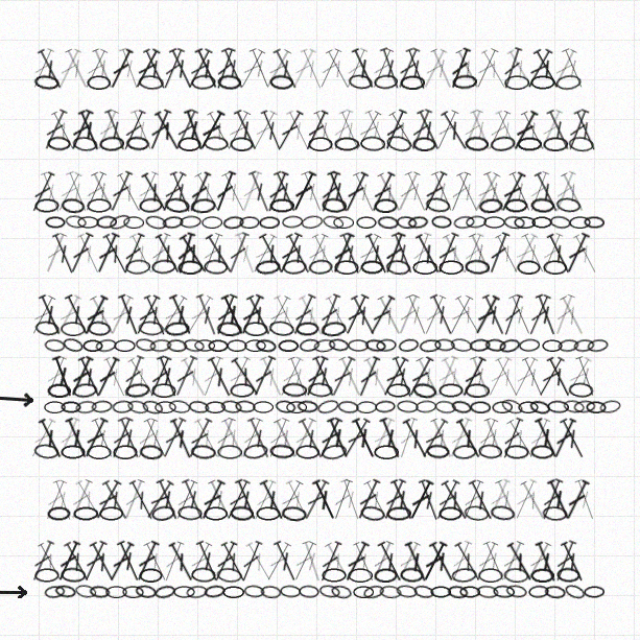chain: (370, 128, 396, 147), (308, 424, 334, 442), (345, 483, 371, 501), (104, 203, 128, 222), (395, 365, 420, 383), (233, 424, 259, 441), (480, 380, 503, 399), (470, 129, 495, 146), (158, 188, 183, 205), (408, 188, 433, 205), (533, 188, 558, 205), (258, 306, 283, 323), (33, 424, 58, 441), (145, 483, 170, 500), (445, 483, 470, 500), (470, 483, 495, 500), (540, 558, 563, 576), (334, 70, 358, 87), (34, 306, 58, 323), (33, 71, 58, 87), (133, 71, 158, 87), (533, 71, 558, 87), (70, 130, 95, 146), (545, 130, 570, 146), (183, 189, 208, 205), (245, 248, 270, 264), (370, 248, 395, 264), (158, 307, 183, 323), (208, 307, 233, 323), (308, 307, 333, 323), (70, 366, 95, 382), (120, 366, 145, 382), (183, 425, 208, 441), (270, 484, 295, 500), (520, 484, 545, 500), (208, 543, 233, 559), (433, 543, 458, 559), (483, 543, 508, 559), (304, 381, 327, 398), (59, 189, 83, 205), (459, 189, 483, 205), (134, 425, 158, 441), (434, 425, 458, 441), (133, 307, 158, 322), (295, 366, 320, 381), (545, 366, 570, 381), (60, 322, 82, 339), (139, 205, 162, 221), (184, 71, 208, 86), (434, 71, 458, 86), (96, 130, 120, 145), (121, 130, 145, 145), (196, 130, 220, 145), (346, 130, 370, 145), (309, 189, 333, 204), (121, 248, 145, 263), (146, 248, 170, 263), (271, 248, 295, 263), (296, 248, 320, 263), (446, 248, 470, 263), (84, 307, 108, 322), (271, 366, 295, 381), (259, 425, 283, 440), (171, 484, 195, 499), (59, 543, 83, 558), (184, 543, 208, 558), (309, 205, 331, 221), (478, 323, 500, 339), (122, 382, 144, 398), (136, 382, 158, 398), (432, 382, 454, 398), (507, 382, 529, 398), (148, 559, 170, 575), (317, 559, 339, 575), (348, 559, 370, 575), (396, 559, 418, 575), (209, 71, 232, 86), (259, 71, 282, 86), (359, 71, 382, 86), (46, 130, 69, 145), (446, 130, 469, 145), (134, 189, 157, 204), (509, 189, 532, 204), (196, 248, 219, 263), (409, 425, 432, 440), (459, 425, 482, 440), (221, 484, 244, 499), (384, 543, 407, 558), (534, 543, 557, 558), (384, 72, 408, 86), (484, 72, 508, 86), (509, 72, 533, 86), (296, 131, 320, 145), (321, 131, 345, 145), (496, 131, 520, 145), (521, 131, 545, 145), (34, 190, 58, 204), (84, 190, 108, 204), (259, 190, 283, 204), (171, 249, 195, 263), (321, 249, 345, 263), (396, 249, 420, 263), (421, 249, 445, 263), (59, 308, 83, 322), (234, 308, 258, 322), (146, 367, 170, 381), (221, 367, 245, 381), (421, 367, 445, 381), (446, 367, 470, 381), (59, 426, 83, 440), (84, 426, 108, 440), (109, 426, 133, 440), (209, 426, 233, 440), (359, 426, 383, 440), (484, 426, 508, 440), (71, 485, 95, 499), (246, 485, 270, 499), (371, 485, 395, 499), (34, 544, 58, 558), (309, 544, 333, 558), (334, 544, 358, 558), (459, 544, 483, 558), (289, 205, 311, 220), (432, 323, 454, 338), (162, 382, 184, 397), (72, 559, 94, 574), (84, 72, 107, 86), (171, 131, 194, 145), (221, 131, 244, 145), (396, 131, 419, 145), (359, 190, 382, 204), (484, 190, 507, 204), (346, 249, 369, 263), (496, 249, 519, 263), (521, 249, 544, 263), (284, 308, 307, 322), (46, 367, 69, 381), (371, 367, 394, 381), (284, 426, 307, 440), (509, 426, 532, 440), (46, 485, 69, 499), (96, 485, 119, 499), (196, 485, 219, 499), (421, 485, 444, 499), (134, 544, 157, 558), (359, 544, 382, 558), (509, 544, 532, 558), (63, 205, 84, 220), (130, 323, 151, 338), (287, 323, 308, 338), (315, 323, 336, 338), (382, 323, 403, 338), (212, 382, 233, 397), (264, 382, 285, 397), (540, 382, 561, 397), (575, 382, 596, 397), (53, 559, 74, 574), (130, 559, 151, 574), (196, 559, 217, 574), (306, 559, 327, 574), (380, 559, 401, 574), (485, 559, 506, 574), (144, 324, 166, 338), (301, 324, 323, 338), (402, 324, 424, 338), (364, 560, 386, 574), (457, 560, 479, 574), (156, 206, 177, 220), (214, 206, 235, 220), (362, 206, 383, 220), (380, 206, 401, 220), (391, 206, 412, 220), (435, 206, 456, 220), (483, 206, 504, 220), (527, 206, 548, 220), (43, 324, 64, 338), (92, 324, 113, 338), (160, 324, 181, 338), (176, 324, 197, 338), (245, 324, 266, 338), (350, 324, 371, 338), (535, 324, 556, 338), (550, 324, 571, 338), (563, 324, 584, 338), (73, 383, 94, 397), (181, 383, 202, 397), (324, 383, 345, 397), (417, 383, 438, 397), (43, 560, 64, 574), (86, 560, 107, 574), (179, 560, 200, 574), (250, 560, 271, 574), (429, 560, 450, 574), (522, 560, 543, 574), (550, 383, 572, 396), (173, 206, 194, 219), (450, 324, 471, 337), (465, 324, 486, 337), (88, 383, 109, 396), (108, 383, 129, 396), (285, 383, 306, 396), (381, 383, 402, 396), (525, 383, 546, 396), (234, 560, 255, 573), (473, 560, 494, 573), (93, 206, 113, 219), (271, 206, 291, 219), (414, 206, 434, 219), (447, 206, 467, 219), (361, 324, 381, 337), (417, 324, 437, 337), (498, 324, 518, 337), (226, 383, 246, 396), (360, 383, 380, 396), (399, 383, 419, 396), (269, 560, 289, 573), (287, 560, 307, 573), (507, 560, 527, 573), (75, 207, 96, 219), (464, 207, 485, 219), (493, 207, 514, 219), (546, 207, 567, 219), (110, 325, 131, 337), (235, 325, 256, 337), (43, 384, 64, 396), (149, 384, 170, 396), (102, 561, 123, 573), (118, 561, 139, 573), (167, 561, 188, 573), (214, 561, 235, 573), (44, 207, 64, 219), (119, 207, 139, 219), (194, 207, 214, 219), (230, 207, 250, 219), (249, 207, 269, 219), (320, 207, 340, 219), (342, 207, 362, 219), (510, 207, 530, 219), (560, 207, 580, 219), (80, 325, 100, 337), (187, 325, 207, 337), (200, 325, 220, 337), (218, 325, 238, 337), (267, 325, 287, 337), (334, 325, 354, 337), (520, 325, 540, 337), (59, 384, 79, 396), (197, 384, 217, 396), (243, 384, 263, 396), (275, 384, 295, 396), (342, 384, 362, 396), (451, 384, 471, 396), (472, 384, 492, 396), (497, 384, 517, 396), (562, 384, 582, 396), (339, 561, 359, 573), (413, 561, 433, 573), (441, 561, 461, 573), (560, 561, 580, 573)
double: (370, 104, 403, 146), (420, 104, 453, 146), (170, 222, 203, 264), (195, 222, 228, 264), (120, 340, 153, 382), (400, 399, 433, 441), (483, 399, 516, 441), (137, 458, 170, 500), (220, 340, 253, 381), (226, 45, 258, 87), (251, 45, 283, 87), (484, 45, 516, 87), (501, 45, 533, 87), (509, 45, 541, 87), (184, 163, 216, 205), (451, 163, 483, 205), (171, 340, 203, 382), (346, 340, 378, 382), (363, 340, 395, 382), (538, 340, 570, 382), (88, 458, 120, 500), (96, 458, 128, 500), (421, 458, 453, 500), (496, 458, 528, 500), (59, 517, 91, 559), (251, 517, 283, 559), (309, 517, 341, 559), (151, 281, 183, 322), (176, 281, 208, 322), (326, 399, 358, 440), (34, 45, 65, 87), (126, 45, 157, 87), (176, 45, 207, 87), (276, 45, 307, 87), (434, 45, 465, 87), (459, 45, 490, 87), (526, 45, 557, 87), (146, 104, 177, 146), (188, 104, 219, 146), (196, 104, 227, 146), (213, 104, 244, 146), (238, 104, 269, 146), (263, 104, 294, 146), (338, 104, 369, 146), (488, 104, 519, 146), (51, 163, 82, 205), (134, 163, 165, 205), (359, 163, 390, 205), (476, 163, 507, 205), (238, 222, 269, 264), (246, 222, 277, 264), (338, 222, 369, 264), (396, 222, 427, 264), (488, 222, 519, 264), (26, 281, 57, 323), (51, 281, 82, 323), (84, 281, 115, 323), (234, 281, 265, 323), (284, 281, 315, 323), (334, 281, 365, 323), (351, 281, 382, 323), (359, 281, 390, 323), (426, 281, 457, 323), (534, 281, 565, 323), (388, 340, 419, 382), (396, 340, 427, 382), (421, 340, 452, 382), (513, 340, 544, 382), (26, 399, 57, 441), (184, 399, 215, 441), (284, 399, 315, 441), (384, 399, 415, 441), (534, 399, 565, 441), (263, 458, 294, 500), (288, 458, 319, 500), (346, 458, 377, 500), (34, 517, 65, 559), (84, 517, 115, 559), (176, 517, 207, 559), (234, 517, 265, 559), (409, 517, 440, 559), (434, 517, 465, 559), (484, 517, 515, 559), (501, 517, 532, 559), (60, 44, 90, 87), (160, 44, 190, 87), (164, 103, 194, 146), (222, 103, 252, 146), (397, 103, 427, 146), (85, 162, 115, 205), (277, 162, 307, 205), (377, 162, 407, 205), (402, 162, 432, 205), (497, 221, 527, 264), (60, 280, 90, 323), (327, 280, 357, 323), (214, 339, 244, 382), (322, 339, 352, 382), (77, 398, 107, 441), (135, 398, 165, 441), (152, 398, 182, 441), (210, 398, 240, 441), (277, 398, 307, 441), (302, 398, 332, 441), (335, 398, 365, 441), (352, 398, 382, 441), (197, 457, 227, 500), (297, 457, 327, 500), (277, 516, 307, 559), (434, 281, 465, 322), (71, 458, 102, 499), (52, 45, 82, 87), (77, 45, 107, 87), (260, 45, 290, 87), (310, 45, 340, 87), (402, 45, 432, 87), (47, 104, 77, 146), (272, 104, 302, 146), (497, 104, 527, 146), (110, 163, 140, 205), (152, 163, 182, 205), (210, 163, 240, 205), (352, 163, 382, 205), (510, 163, 540, 205), (535, 163, 565, 205), (97, 222, 127, 264), (122, 222, 152, 264), (147, 222, 177, 264), (272, 222, 302, 264), (422, 222, 452, 264), (472, 222, 502, 264), (547, 222, 577, 264), (77, 281, 107, 323), (102, 281, 132, 323), (127, 281, 157, 323), (252, 281, 282, 323), (260, 281, 290, 323), (310, 281, 340, 323), (452, 281, 482, 323), (197, 340, 227, 382), (264, 340, 294, 382), (314, 340, 344, 382), (439, 340, 469, 382), (464, 340, 494, 382), (472, 340, 502, 382), (489, 340, 519, 382), (177, 399, 207, 441), (260, 399, 290, 441), (435, 399, 465, 441), (122, 458, 152, 500), (189, 458, 219, 500), (247, 458, 277, 500), (389, 458, 419, 500), (414, 458, 444, 500), (447, 458, 477, 500), (102, 517, 132, 559), (135, 517, 165, 559), (160, 517, 190, 559), (210, 517, 240, 559), (327, 517, 357, 559), (360, 517, 390, 559), (377, 517, 407, 559), (402, 517, 432, 559), (27, 44, 56, 87), (185, 44, 214, 87), (210, 44, 239, 87), (302, 44, 331, 87), (327, 44, 356, 87), (335, 44, 364, 87), (352, 44, 381, 87), (377, 44, 406, 87), (410, 44, 439, 87), (452, 44, 481, 87), (39, 103, 68, 146), (64, 103, 93, 146), (89, 103, 118, 146), (347, 103, 376, 146), (414, 103, 443, 146), (514, 103, 543, 146), (522, 103, 551, 146), (77, 162, 106, 205), (102, 162, 131, 205), (127, 162, 156, 205), (260, 162, 289, 205), (385, 162, 414, 205), (485, 162, 514, 205), (64, 221, 93, 264), (89, 221, 118, 264), (264, 221, 293, 264), (447, 221, 476, 264), (539, 221, 568, 264), (35, 280, 64, 323), (160, 280, 189, 323), (210, 280, 239, 323), (227, 280, 256, 323), (277, 280, 306, 323), (410, 280, 439, 323), (460, 280, 489, 323), (485, 280, 514, 323), (64, 339, 93, 382), (164, 339, 193, 382), (239, 339, 268, 382), (247, 339, 276, 382), (289, 339, 318, 382), (297, 339, 326, 382), (52, 398, 81, 441), (60, 398, 89, 441), (85, 398, 114, 441), (227, 398, 256, 441), (235, 398, 264, 441), (410, 398, 439, 441), (427, 398, 456, 441), (510, 398, 539, 441), (64, 457, 93, 500), (172, 457, 201, 500), (339, 457, 368, 500), (364, 457, 393, 500), (372, 457, 401, 500), (464, 457, 493, 500), (472, 457, 501, 500), (489, 457, 518, 500), (522, 457, 551, 500), (27, 516, 56, 559), (52, 516, 81, 559), (77, 516, 106, 559), (110, 516, 139, 559), (127, 516, 156, 559), (260, 516, 289, 559), (460, 516, 489, 559), (477, 516, 506, 559), (102, 45, 131, 87), (135, 45, 164, 87), (289, 104, 318, 146), (464, 104, 493, 146), (27, 163, 56, 205), (327, 163, 356, 205), (435, 163, 464, 205), (72, 222, 101, 264), (297, 222, 326, 264), (522, 222, 551, 264), (89, 340, 118, 382), (97, 340, 126, 382), (522, 340, 551, 382), (35, 399, 64, 441), (527, 399, 556, 441), (214, 458, 243, 500), (272, 458, 301, 500), (539, 458, 568, 500), (202, 517, 231, 559), (452, 517, 481, 559), (535, 517, 564, 559), (86, 44, 114, 87), (236, 44, 264, 87), (536, 44, 564, 87), (98, 103, 126, 146), (123, 103, 151, 146), (140, 103, 168, 146), (365, 103, 393, 146), (390, 103, 418, 146), (448, 103, 476, 146), (540, 103, 568, 146), (61, 162, 89, 205), (236, 162, 264, 205), (286, 162, 314, 205), (311, 162, 339, 205), (411, 162, 439, 205), (461, 162, 489, 205), (528, 162, 556, 205), (40, 221, 68, 264), (140, 221, 168, 264), (215, 221, 243, 264), (315, 221, 343, 264), (373, 221, 401, 264), (415, 221, 443, 264), (515, 221, 543, 264), (203, 280, 231, 323), (378, 280, 406, 323), (386, 280, 414, 323), (40, 339, 68, 382), (190, 339, 218, 382), (415, 339, 443, 382), (103, 398, 131, 441), (111, 398, 139, 441), (253, 398, 281, 441), (311, 398, 339, 441), (361, 398, 389, 441), (115, 457, 143, 500), (148, 457, 176, 500), (223, 457, 251, 500), (515, 457, 543, 500), (186, 516, 214, 559), (353, 516, 381, 559), (428, 516, 456, 559), (528, 516, 556, 559), (286, 45, 314, 87), (115, 104, 143, 146), (298, 104, 326, 146), (473, 104, 501, 146), (548, 104, 576, 146), (178, 163, 206, 205), (336, 163, 364, 205), (48, 222, 76, 264), (290, 222, 318, 264), (348, 222, 376, 264), (136, 281, 164, 323), (403, 281, 431, 323), (503, 281, 531, 323), (73, 340, 101, 382), (140, 340, 168, 382), (340, 340, 368, 382), (498, 340, 526, 382), (161, 399, 189, 441), (453, 399, 481, 441), (503, 399, 531, 441), (40, 458, 68, 500), (165, 458, 193, 500), (240, 458, 268, 500), (303, 517, 331, 559), (336, 517, 364, 559), (386, 517, 414, 559), (428, 44, 455, 87), (315, 103, 342, 146), (440, 103, 467, 146), (203, 162, 230, 205), (228, 162, 255, 205), (503, 162, 530, 205), (190, 221, 217, 264), (223, 221, 250, 264), (365, 221, 392, 264), (465, 221, 492, 264), (111, 280, 138, 323), (186, 280, 213, 323), (303, 280, 330, 323), (511, 280, 538, 323), (528, 280, 555, 323), (48, 339, 75, 382), (115, 339, 142, 382), (148, 339, 175, 382), (448, 339, 475, 382), (203, 398, 230, 441), (461, 398, 488, 441), (315, 457, 342, 500), (548, 457, 575, 500), (153, 45, 180, 87), (73, 104, 100, 146), (248, 104, 275, 146), (323, 104, 350, 146), (161, 163, 188, 205), (253, 163, 280, 205), (428, 163, 455, 205), (115, 222, 142, 264), (440, 222, 467, 264), (128, 399, 155, 441), (478, 399, 505, 441), (440, 458, 467, 500), (228, 517, 255, 559), (511, 517, 538, 559), (112, 44, 138, 87), (362, 44, 388, 87), (174, 103, 200, 146), (391, 221, 417, 264), (549, 339, 575, 382), (324, 457, 350, 500), (287, 516, 313, 559), (387, 45, 413, 87), (37, 163, 63, 205), (304, 163, 330, 205), (324, 222, 350, 264), (479, 281, 505, 323), (274, 340, 300, 382), (374, 340, 400, 382), (399, 458, 425, 500), (154, 517, 180, 559), (479, 44, 504, 87), (166, 221, 191, 264), (379, 398, 404, 441), (204, 45, 229, 87), (49, 458, 74, 500)
noise: (0, 374, 35, 390), (0, 561, 29, 573)
